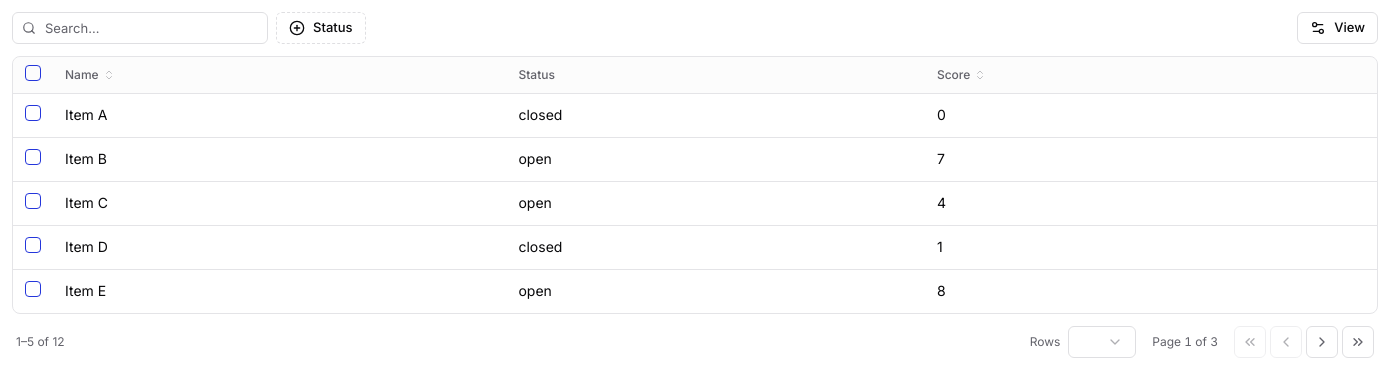
Scenario: DataTable › sorts via accessible header buttons and exposes aria-sort
The image size is (1390, 375).
Click the button with aria-label "sort by name". click: (90, 75)
box: x1=59 y1=63 x2=121 y2=87
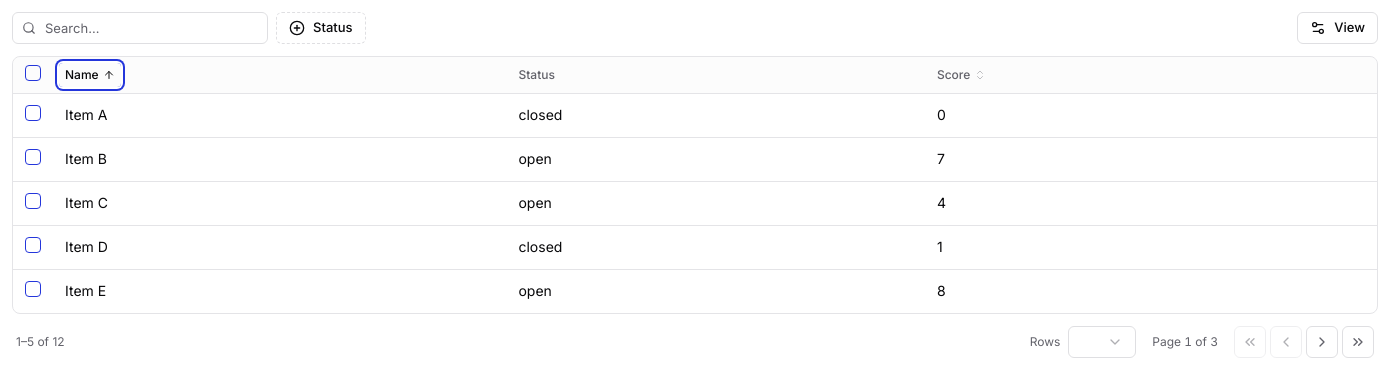
Expected: the column heading "Name" has attribute aria-sort="ascending", x1=53 y1=57 x2=506 y2=93
Click the button with aria-label "sort by name". click: (90, 75)
box: x1=59 y1=63 x2=121 y2=87
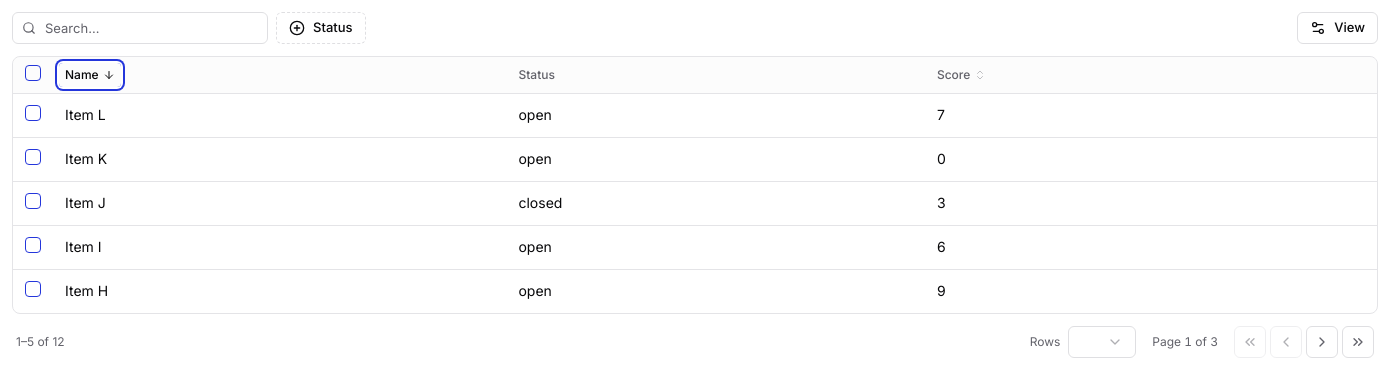
Expected: the cell "Item L" is shown, x1=53 y1=93 x2=506 y2=137
